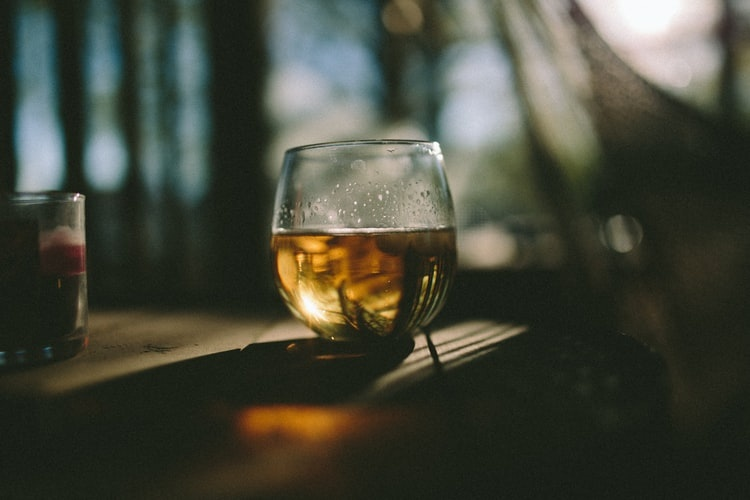whiskey: (266, 142, 455, 358)
